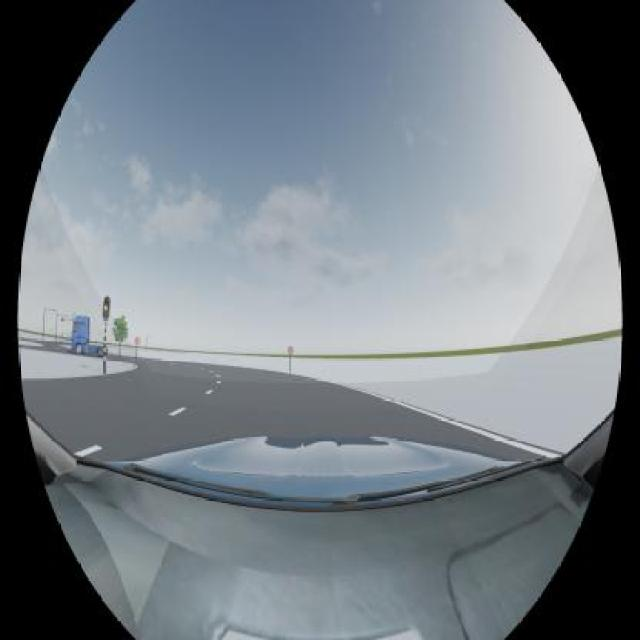forb_speed_over_80: (287, 346, 293, 354)
